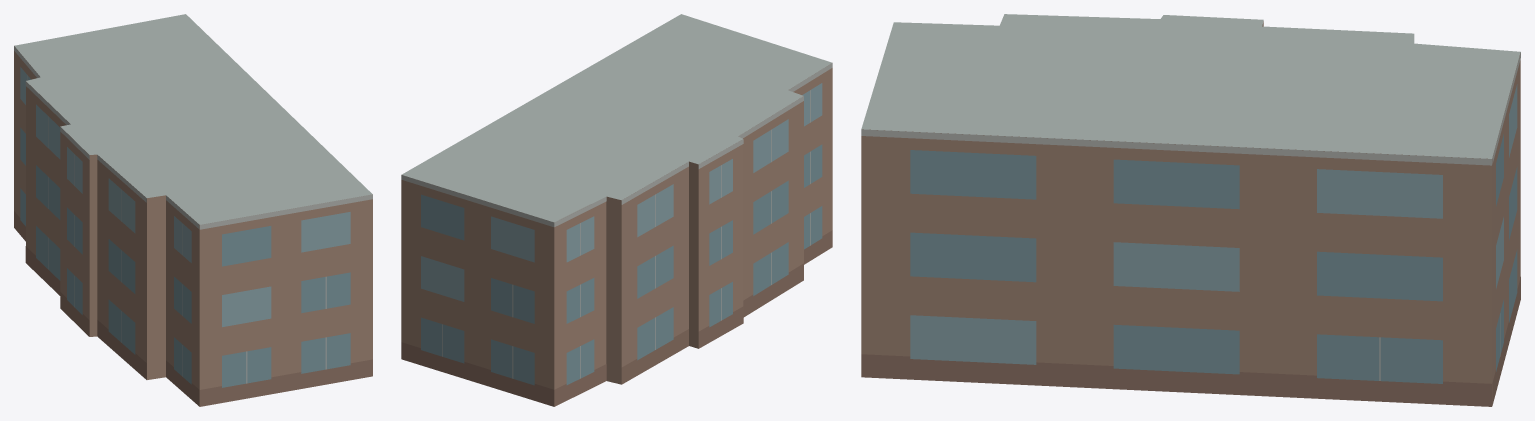
Rendered from survey-upis-32598748.glb.
The picture shows the model from 3 angles, left to right: view 1: azimuth 30°, elevation 25°; view 2: azimuth 150°, elevation 25°; view 3: azimuth 270°, elevation 25°; orthographic projection. The views are drawn at different scales.
Parts seen in each view (by area): view 1: survey-upis-32598748.tmp; view 2: survey-upis-32598748.tmp; view 3: survey-upis-32598748.tmp.
Part boxes in pixels (x1,y1,x2,y2): survey-upis-32598748.tmp: (14, 14, 372, 406); survey-upis-32598748.tmp: (401, 14, 832, 406); survey-upis-32598748.tmp: (861, 14, 1520, 406).
Bounding box in the file's own units: 11.49 × 9.15 × 22.07.
